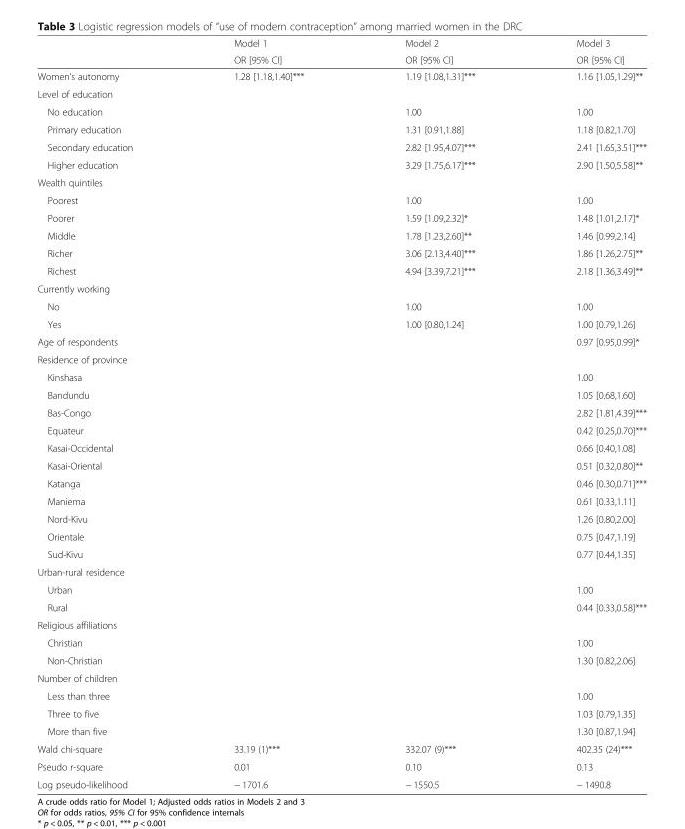table: (36, 37, 646, 789)
table column: (353, 37, 525, 789), (182, 37, 353, 789), (36, 37, 182, 789), (525, 37, 646, 789)
table column header: (36, 37, 646, 67)
table projected row header: (36, 84, 646, 102), (36, 173, 646, 191), (36, 279, 646, 297), (36, 350, 646, 368), (36, 562, 646, 580), (36, 615, 646, 633), (36, 669, 646, 686)
table row: (36, 84, 646, 102), (36, 102, 646, 120), (36, 137, 646, 155), (36, 155, 646, 173), (36, 173, 646, 191), (36, 208, 646, 226), (36, 226, 646, 244), (36, 261, 646, 279), (36, 279, 646, 297), (36, 314, 646, 332), (36, 332, 646, 350), (36, 350, 646, 368), (36, 385, 646, 403), (36, 403, 646, 421), (36, 438, 646, 456), (36, 456, 646, 474), (36, 474, 646, 492), (36, 509, 646, 527), (36, 527, 646, 545), (36, 562, 646, 580), (36, 580, 646, 598), (36, 615, 646, 633), (36, 633, 646, 651), (36, 651, 646, 669), (36, 686, 646, 704), (36, 704, 646, 722), (36, 739, 646, 757), (36, 757, 646, 775), (36, 67, 646, 84), (36, 120, 646, 137), (36, 191, 646, 208), (36, 244, 646, 261), (36, 297, 646, 314), (36, 368, 646, 385), (36, 421, 646, 438), (36, 492, 646, 509), (36, 545, 646, 562), (36, 598, 646, 615), (36, 669, 646, 686), (36, 722, 646, 739), (36, 51, 646, 67), (36, 37, 646, 51), (36, 775, 646, 789)
table spanning cell: (353, 37, 525, 67), (182, 37, 353, 67), (525, 37, 646, 67)
